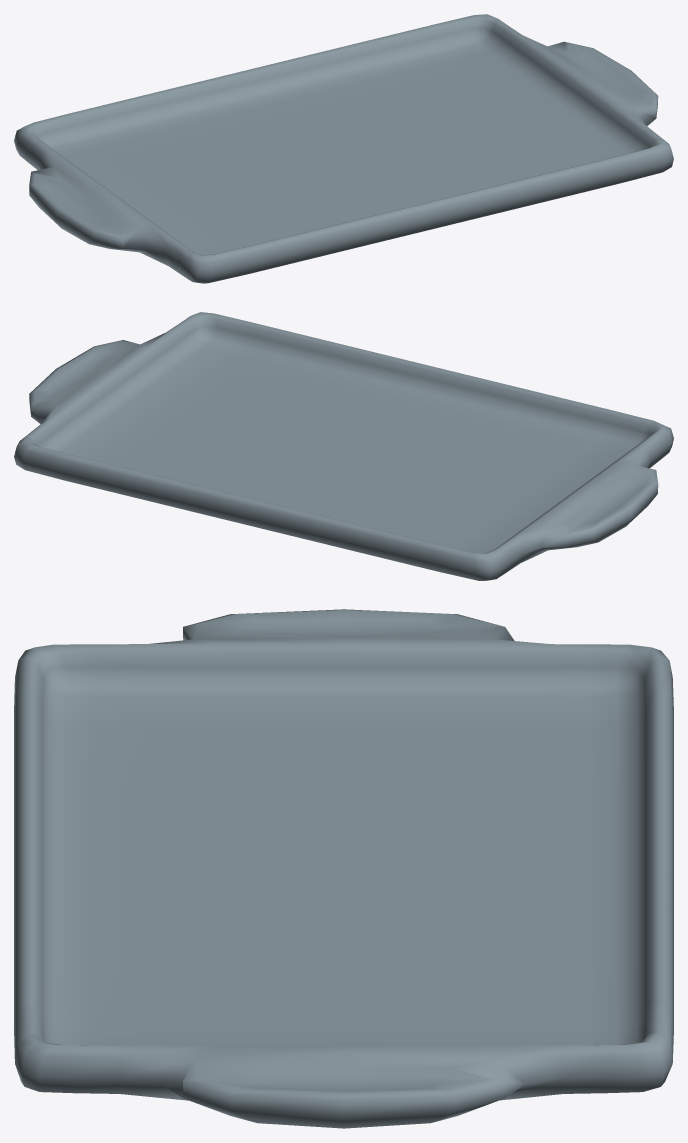
Rendered from BakingPan.fbx.
The picture shows the model from 3 angles, top to bottom: view 1: azimuth 30°, elevation 25°; view 2: azimuth 150°, elevation 25°; view 3: azimuth 270°, elevation 25°; orthographic projection. The views are drawn at different scales.
Visible parts, largest first — view 1: BakingPan; view 2: BakingPan; view 3: BakingPan.
Boxes of the visible parts, box(x1,y1,x2,y2) form: BakingPan: box(14, 14, 673, 283); BakingPan: box(14, 312, 673, 580); BakingPan: box(14, 609, 673, 1128).
Bounding box in the file's own units: 26.82 × 15.2 × 1.39.
1 material, 1 textured.
